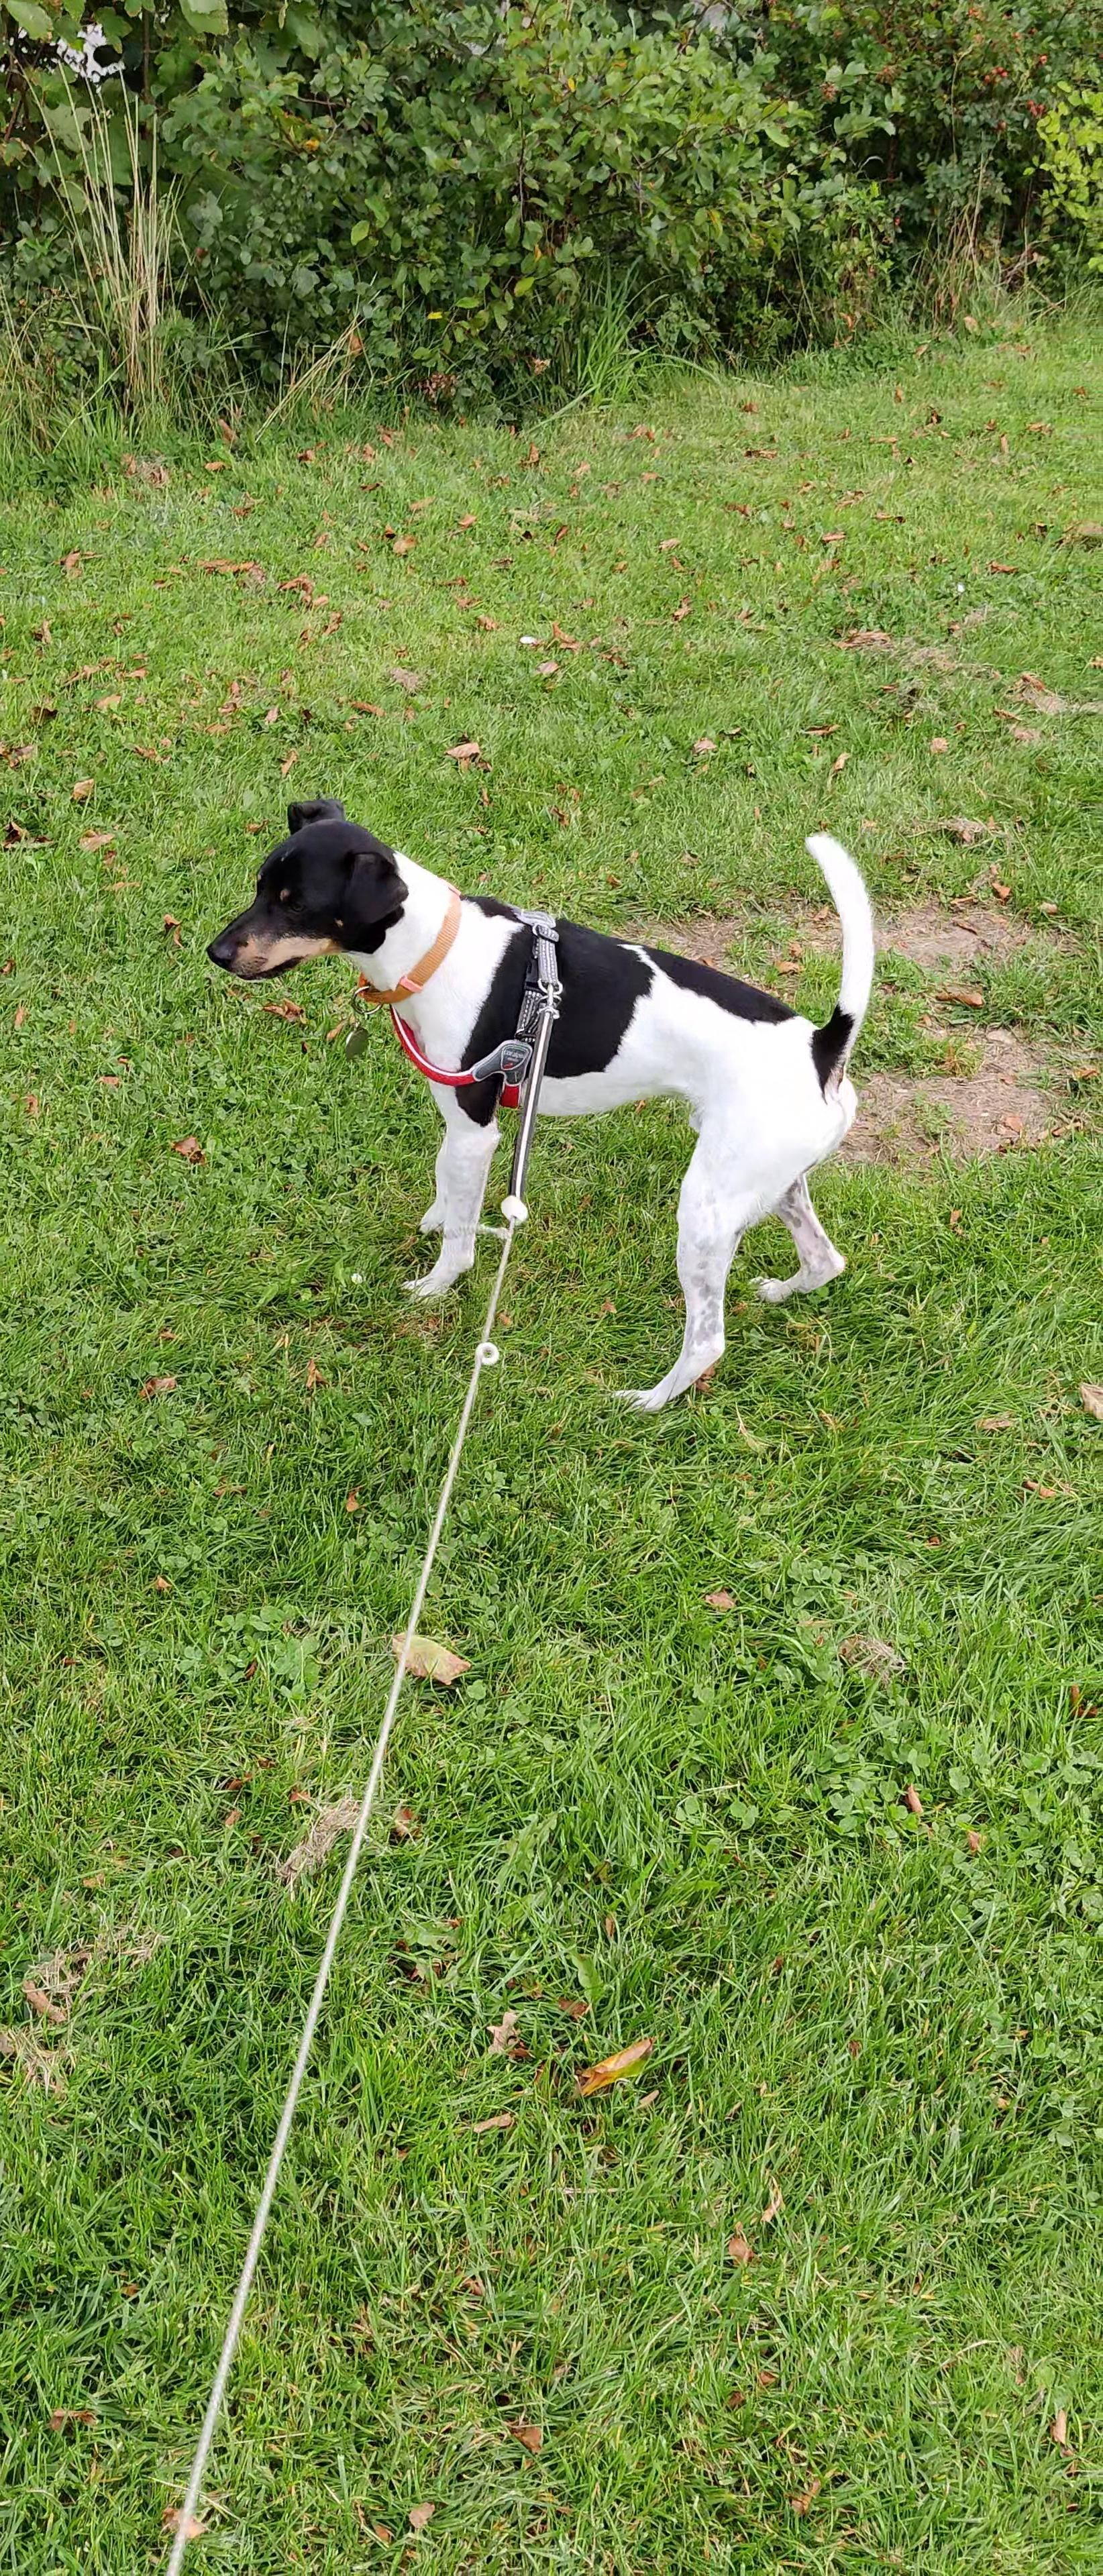Dog: (192, 787, 884, 1410)
